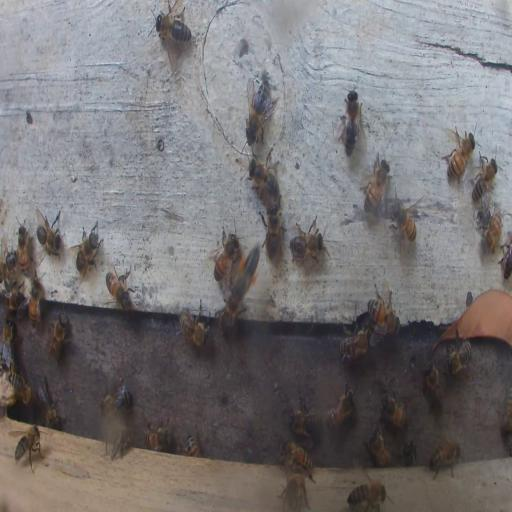bee: (245, 78, 274, 144), (443, 128, 477, 184), (231, 242, 260, 307), (72, 220, 103, 280), (156, 4, 191, 52), (245, 154, 280, 202), (388, 193, 420, 245), (362, 156, 390, 214), (470, 152, 500, 206), (289, 216, 324, 262), (259, 201, 285, 260), (212, 226, 240, 280), (341, 88, 364, 153), (35, 208, 64, 259), (13, 424, 43, 472), (178, 302, 209, 346), (287, 398, 319, 440), (326, 384, 354, 430), (429, 438, 461, 478), (348, 479, 392, 508), (221, 281, 246, 332), (379, 386, 407, 430), (99, 379, 132, 416), (367, 298, 398, 335), (365, 426, 392, 468), (276, 443, 314, 472), (106, 267, 132, 309), (340, 326, 370, 362), (282, 473, 309, 511), (49, 312, 69, 362), (424, 362, 444, 408), (8, 366, 32, 402), (143, 421, 171, 451), (445, 343, 472, 374), (104, 432, 136, 458), (28, 274, 43, 328), (484, 209, 502, 254), (37, 379, 57, 419), (16, 224, 31, 271), (2, 284, 26, 313), (500, 386, 512, 440), (41, 393, 59, 427), (500, 232, 512, 280), (2, 249, 17, 283), (2, 317, 14, 354), (401, 441, 417, 467), (184, 433, 200, 457)
